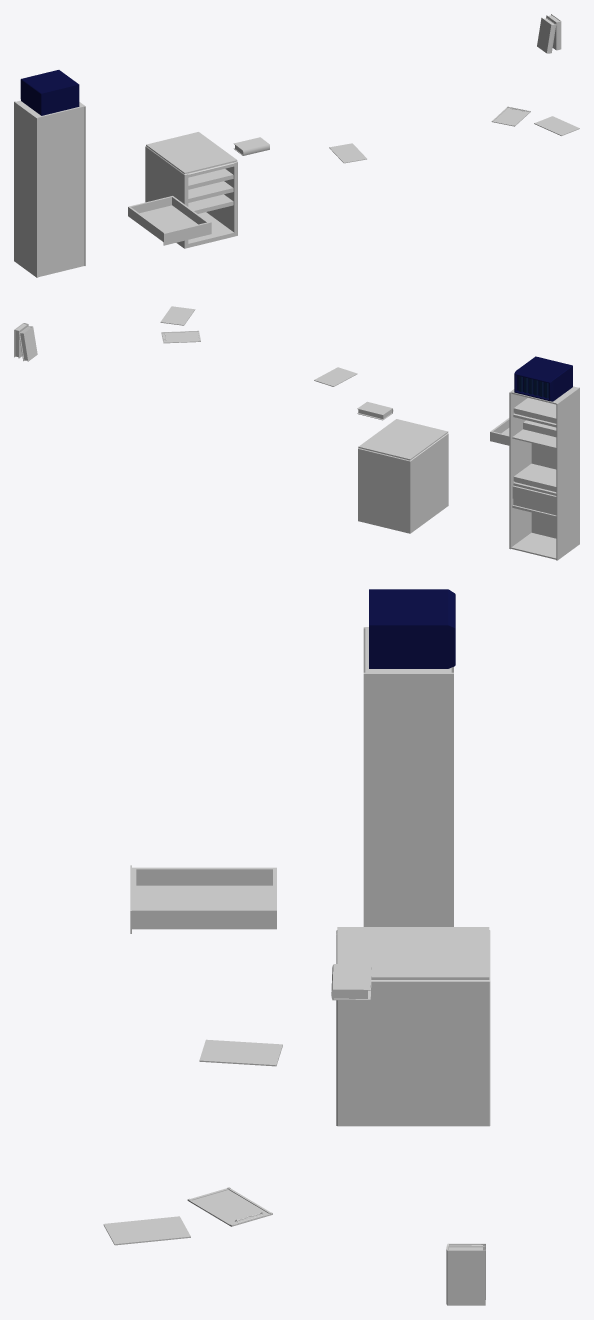
Rendered from All.fbx.
3 renders of one model, top to bottom at view 1: azimuth 30°, elevation 25°; view 2: azimuth 150°, elevation 25°; view 3: azimuth 270°, elevation 25°, orthographic. The views are drawn at different scales.
Parts seen in each view (by area): view 1: Box418, Drawer 2.003, Drawer 2.004, PC 014, books, a005, a4, clip board, book; view 2: Box418, Drawer 2.003, PC 014, books, a4, a005, clip board, book, Drawer 2.004; view 3: Drawer 2.003, Box418, Drawer 2.004, PC 014, books, a005, a4, clip board, book.
Part boxes in pixels (box(x1,y1,x2,y2)): Box418: box(14, 100, 85, 277); Drawer 2.003: box(145, 132, 237, 248); Drawer 2.004: box(128, 196, 211, 245); PC 014: box(20, 70, 79, 115); books: box(537, 14, 561, 53); a005: box(534, 116, 579, 135); a4: box(329, 143, 366, 163); clip board: box(491, 106, 530, 126); book: box(233, 137, 269, 155); Box418: box(509, 386, 579, 560); Drawer 2.003: box(358, 419, 448, 533); PC 014: box(514, 356, 572, 401); books: box(14, 323, 37, 361); a4: box(314, 367, 357, 386); a005: box(160, 306, 195, 325); clip board: box(161, 330, 200, 343); book: box(357, 401, 393, 420); Drawer 2.004: box(490, 418, 509, 445); Drawer 2.003: box(336, 927, 490, 1126); Box418: box(363, 627, 453, 926); Drawer 2.004: box(130, 865, 276, 933); PC 014: box(369, 589, 455, 668); books: box(446, 1243, 485, 1305); a005: box(103, 1216, 190, 1245); a4: box(199, 1039, 282, 1066); clip board: box(187, 1187, 272, 1226); book: box(331, 964, 371, 1000).
Bounding box in the file's own units: 716 × 228 × 224.
